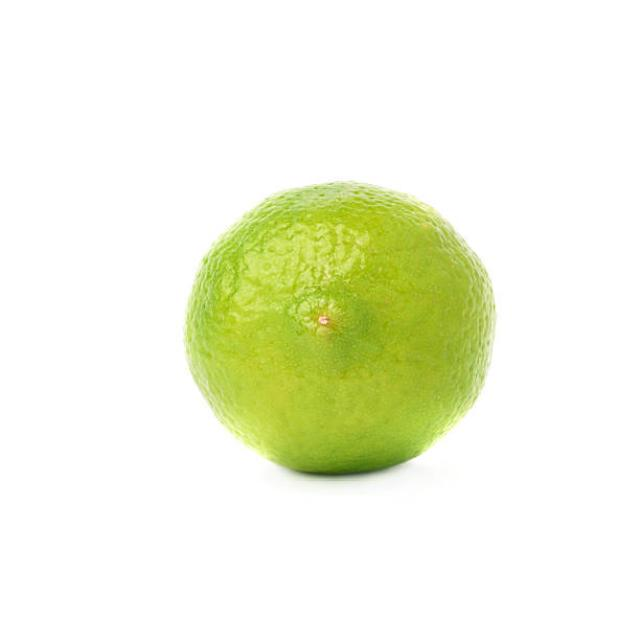Unripe: (182, 177, 497, 477)
